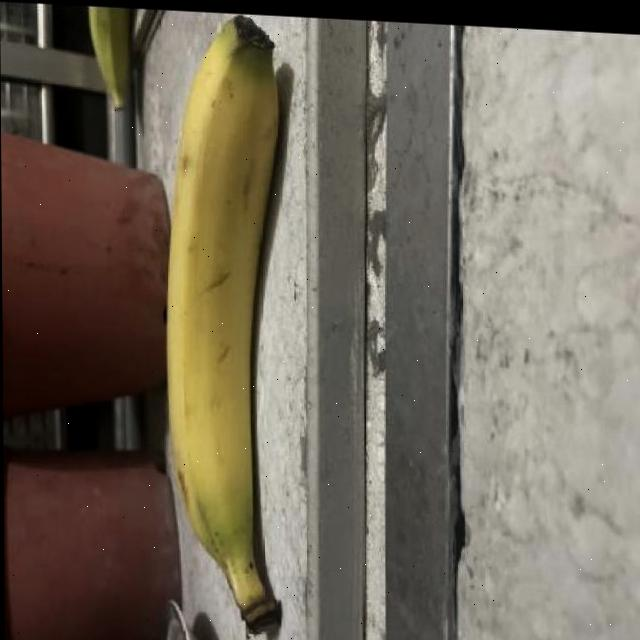banana: (164, 11, 289, 640)
